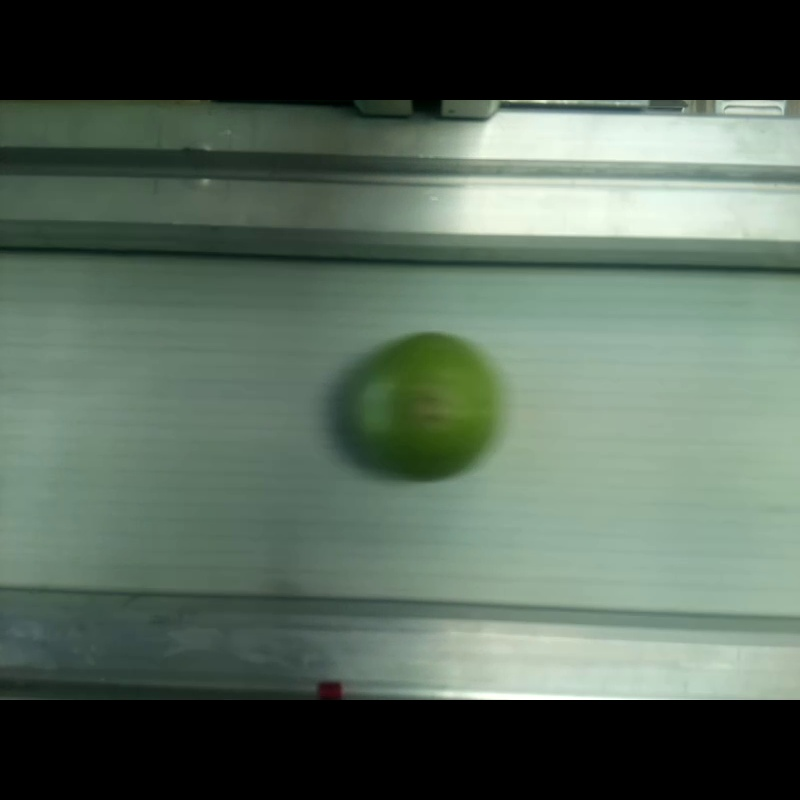lime: (347, 333, 496, 476)
